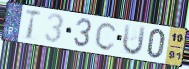0: (145, 29, 167, 60)
3: (44, 13, 67, 45), (73, 17, 93, 49)
C: (94, 21, 119, 52)
T: (24, 8, 43, 42)
U: (121, 23, 147, 57)
